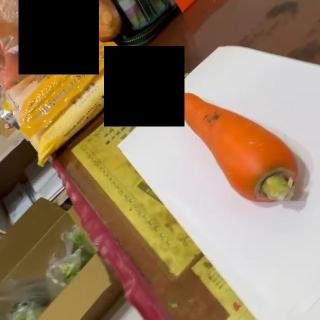carrot: (176, 92, 300, 204)
